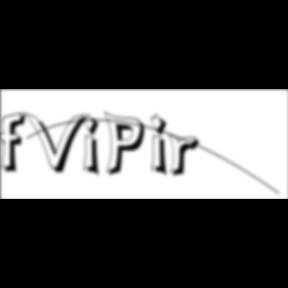P: (104, 110, 152, 180)
V: (24, 110, 92, 176)
f: (0, 111, 32, 175)
i: (83, 112, 107, 180), (151, 112, 175, 180)
r: (169, 134, 207, 180)
